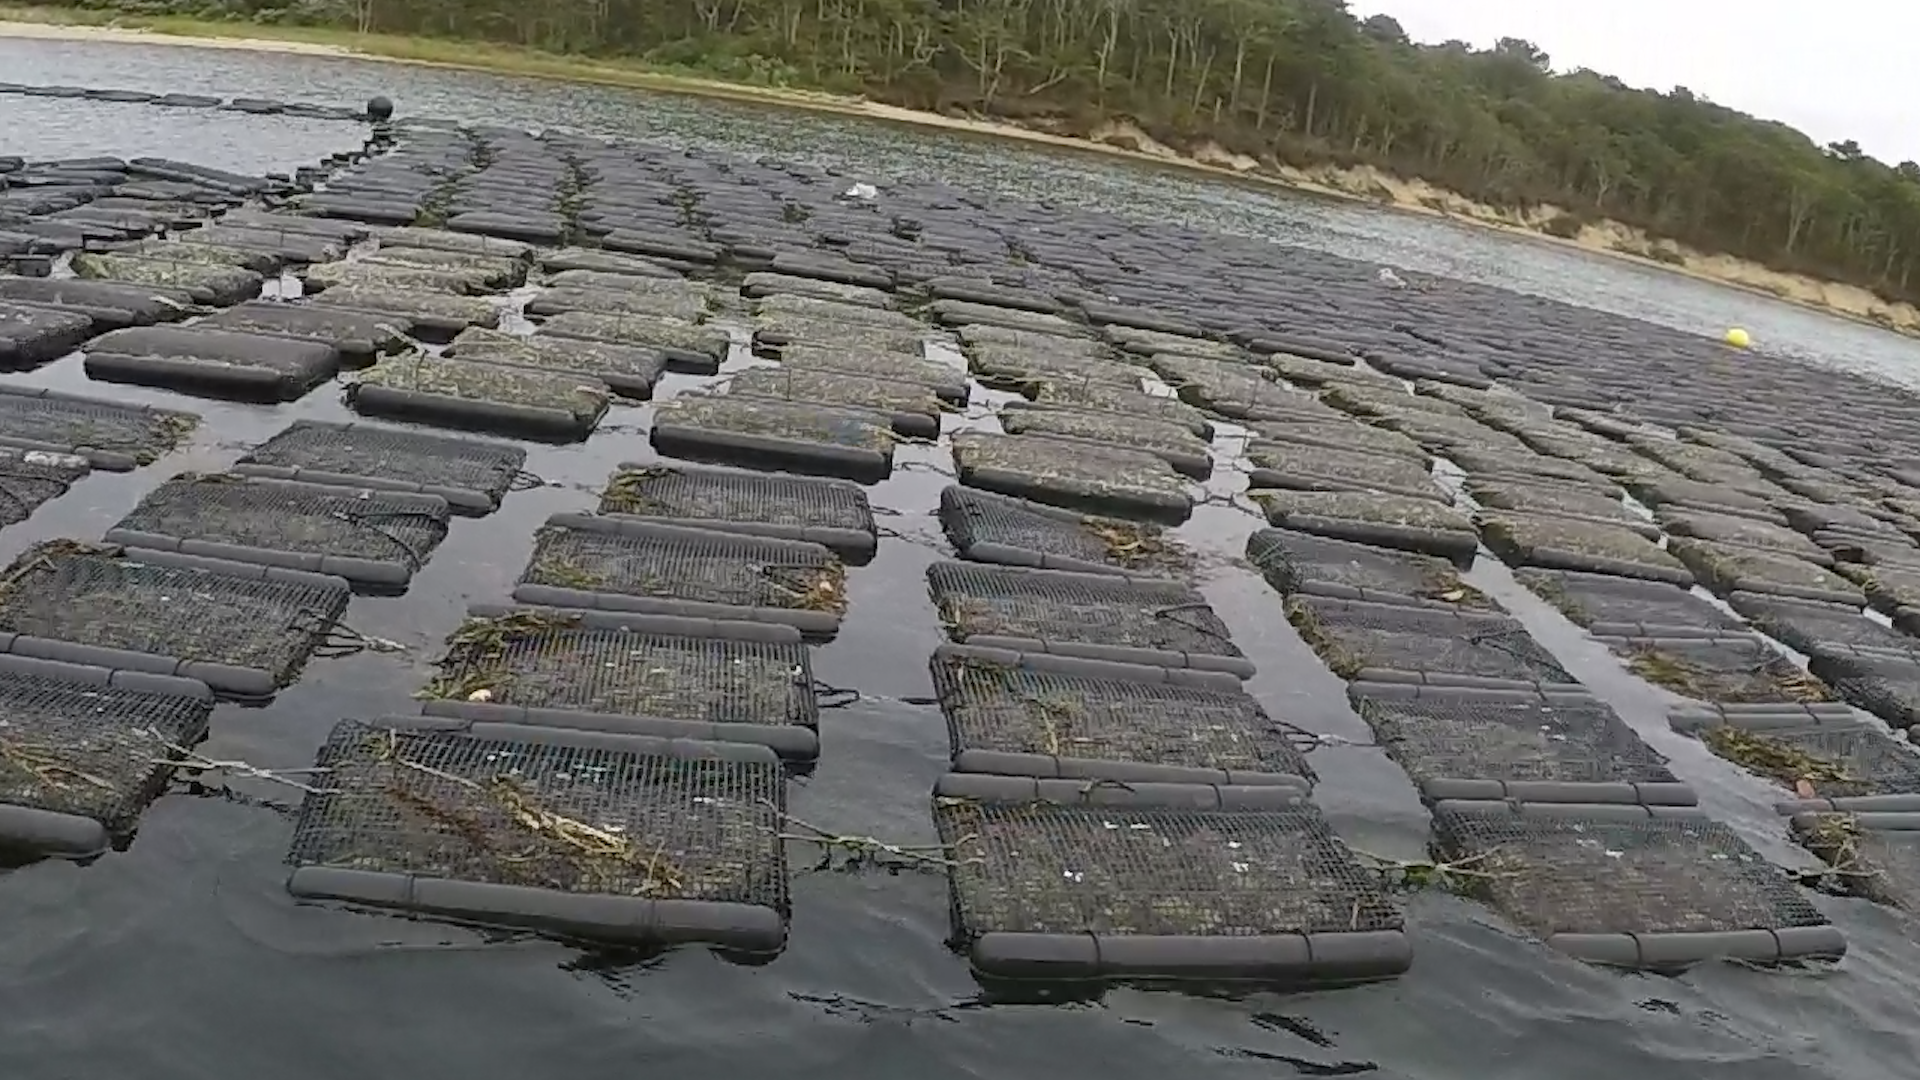bag: (280, 713, 791, 960), (924, 766, 1420, 986), (1433, 800, 1853, 969), (421, 601, 808, 746), (924, 646, 1323, 787), (3, 541, 351, 694), (339, 351, 622, 443), (649, 392, 899, 483), (947, 429, 1197, 517), (84, 323, 336, 397)
